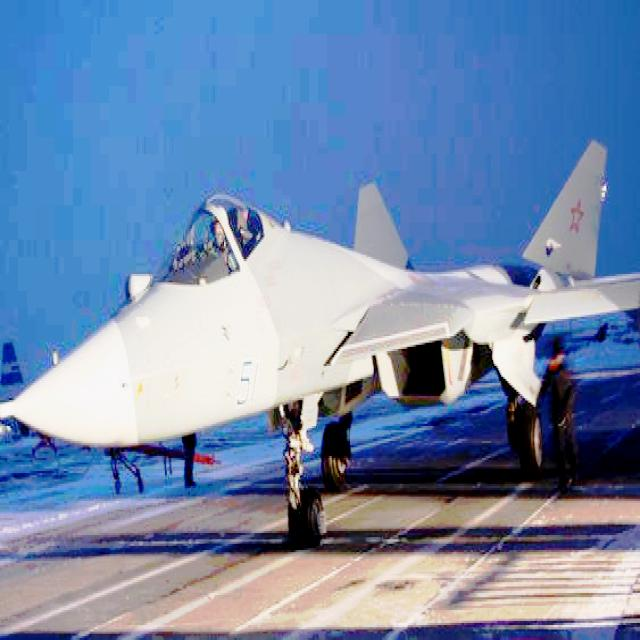Aircraft: (0, 137, 639, 548)
